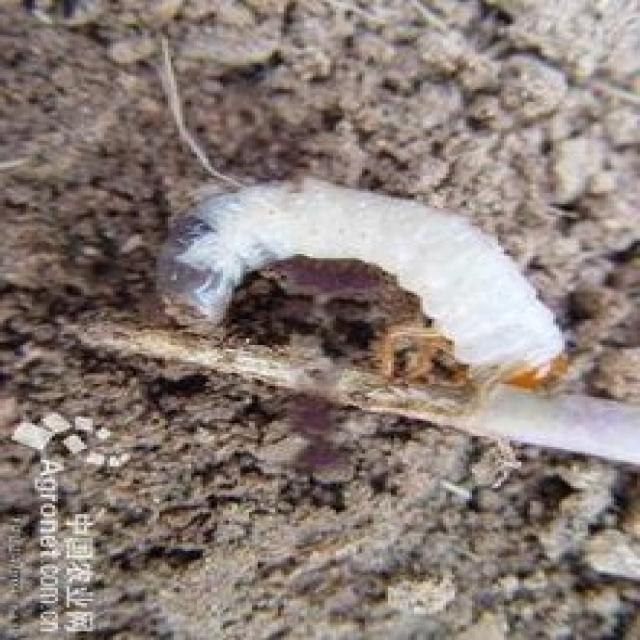grub: (152, 181, 580, 394)
